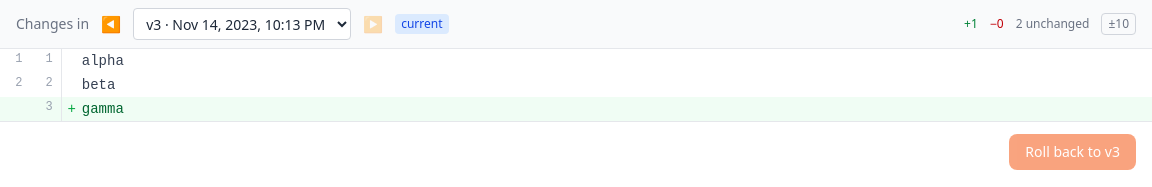
VfsHistory › steps back, labelling the first version "Created"
The image size is (1152, 187).
Expected: the text "gamma" is shown, [82,101,124,117]
Click the button named "Previous version" at (111, 24), box [95,8,127,40]
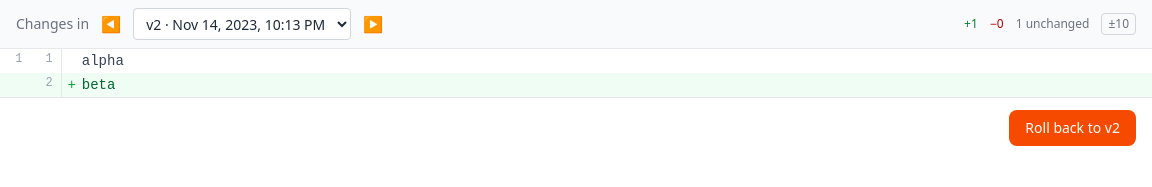
Expected: the text "Changes in" is shown, [16,14,89,34]
Expected: the text "gamma" is gone
Select "v1 · Nov 14, 2023, 10:13 PM" in the dropdown named "Version" at (242, 24), box [133,8,351,40]
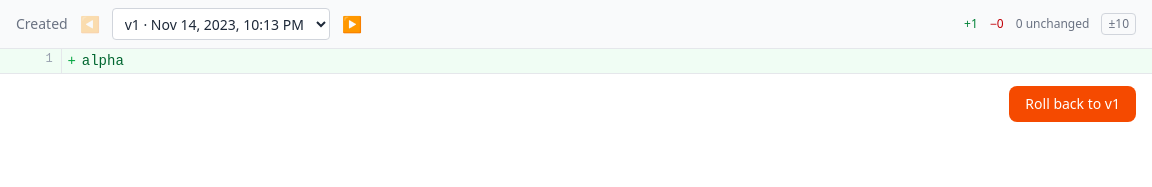
Expected: the text "Created" is shown, [16,14,68,34]
Expected: the button named "Previous version" is disabled, [74,8,106,40]
